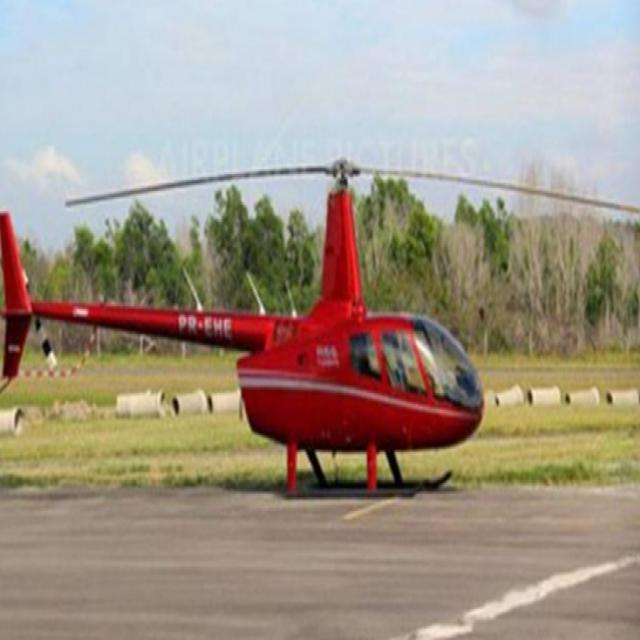helicopter: (1, 46, 547, 528)
